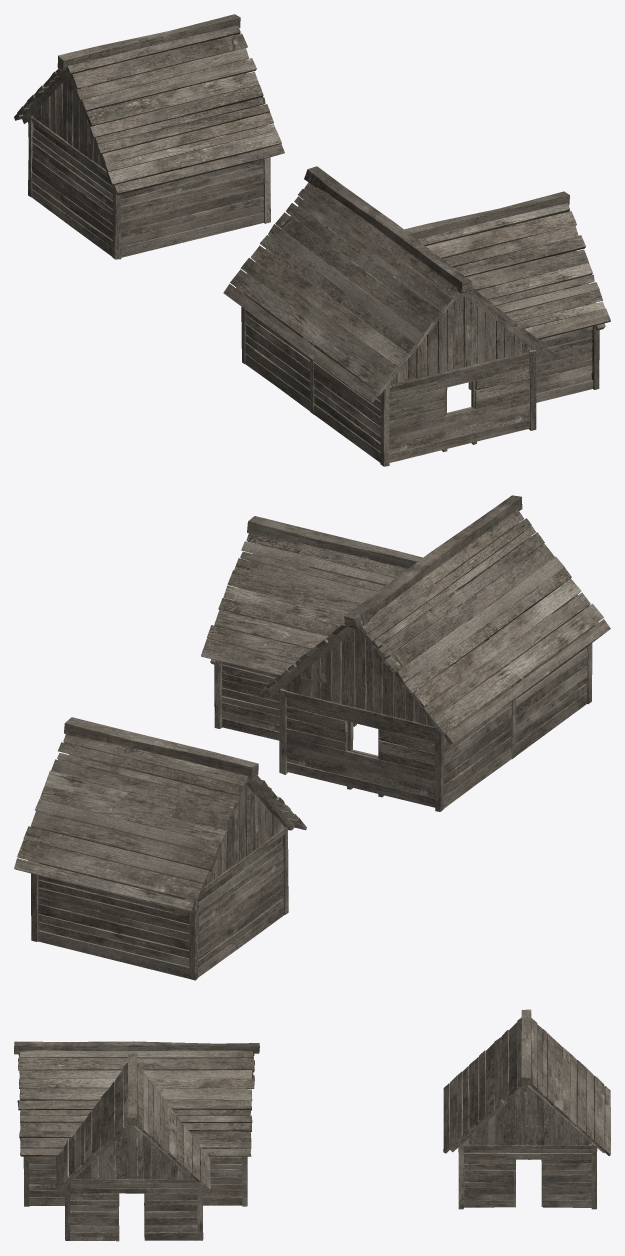
File: Pirate Buildings.obj
3 views of the same model, one above another, from view 1: azimuth 30°, elevation 25°; view 2: azimuth 150°, elevation 25°; view 3: azimuth 270°, elevation 25° (orthographic). The views are drawn at different scales.
Visible parts, largest first — view 1: Building_13, Building_14; view 2: Building_13, Building_14; view 3: Building_13, Building_14.
Part boxes in pixels (x1,y1,x2,y2): Building_13: [223, 166, 610, 466]; Building_14: [14, 14, 284, 259]; Building_13: [201, 495, 610, 811]; Building_14: [14, 717, 306, 980]; Building_13: [14, 1041, 259, 1241]; Building_14: [443, 1009, 610, 1209].
Size of the model in its own units: 9.32 by 5.89 by 22.89.
Materials: 1 (1 with a texture image).
